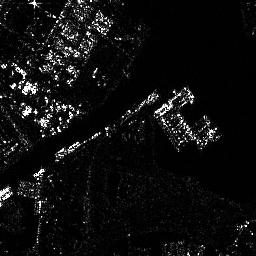ship: (55, 137, 79, 157)
